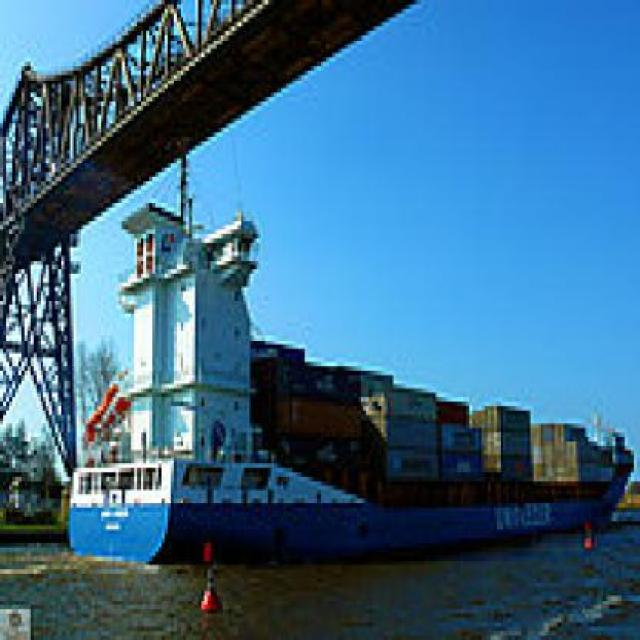container: (62, 129, 639, 589)
